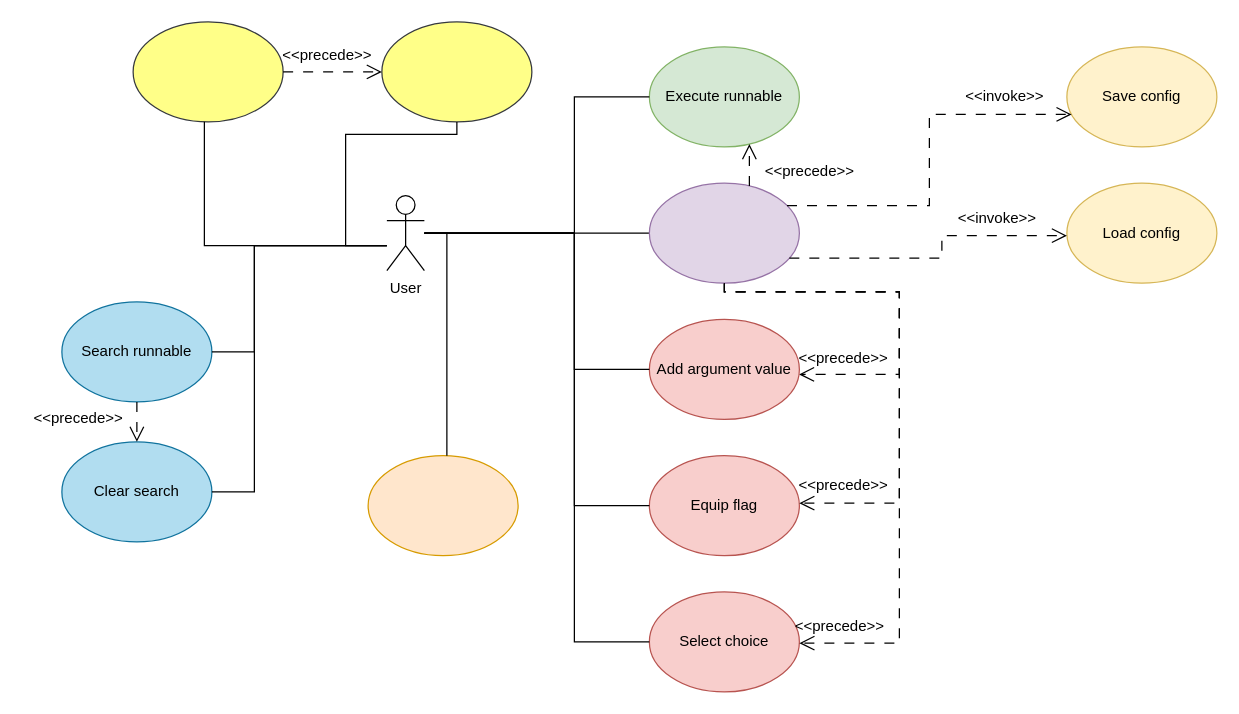
This 1239x714 diagram has some shape labels left out. The centre of each missing label's shape, as x and y in pixels:
Clear history: pixel 442 505
Pin a runnable as favourite: pixel 207 71
Remove runnable pin: pixel 456 71
Select runnable: pixel 723 232
